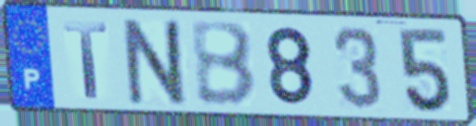3: (332, 23, 386, 113)
5: (395, 25, 454, 115)
8: (264, 24, 318, 108)
B: (187, 20, 259, 110)
N: (121, 16, 191, 109)
T: (61, 20, 111, 101)
